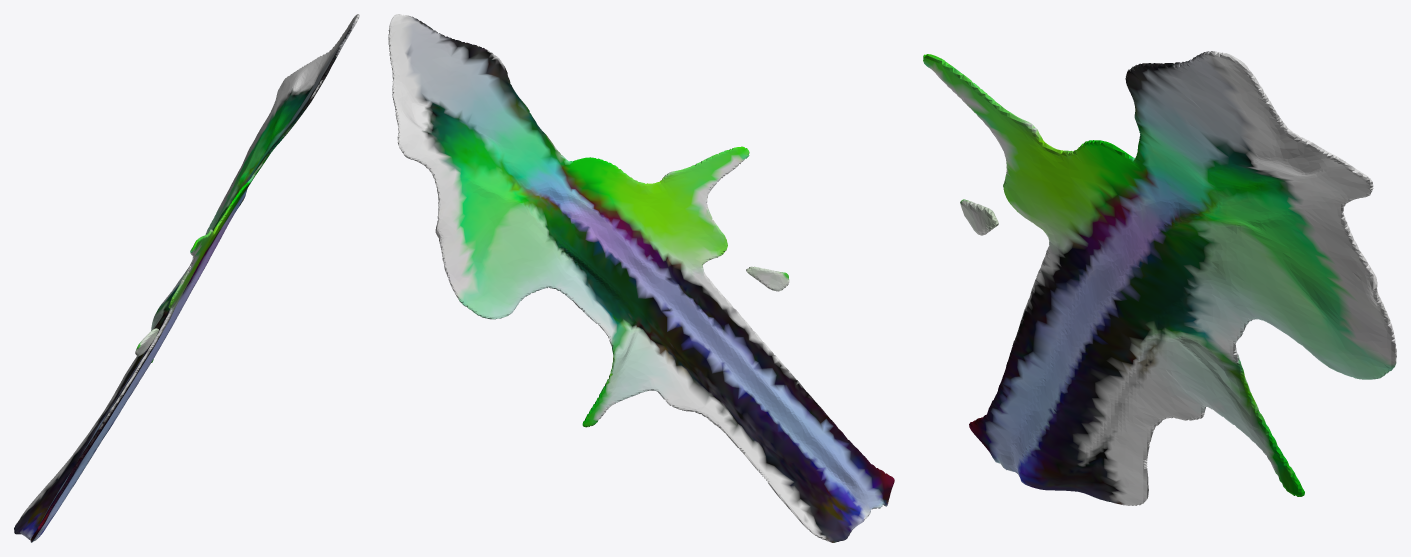
The model's file is spear_ixalovh.glb.
The picture shows the model from 3 angles, left to right: view 1: azimuth 30°, elevation 25°; view 2: azimuth 150°, elevation 25°; view 3: azimuth 270°, elevation 25°; orthographic projection. The views are drawn at different scales.
Visible parts, largest first — view 1: geometry_0; view 2: geometry_0; view 3: geometry_0.
Part boxes in pixels (box(x1,y1,x2,y2)): geometry_0: box(14, 14, 359, 542); geometry_0: box(388, 14, 894, 542); geometry_0: box(923, 51, 1396, 505).
Bounding box in the file's own units: 0.875 × 0.8761 × 0.4633.
